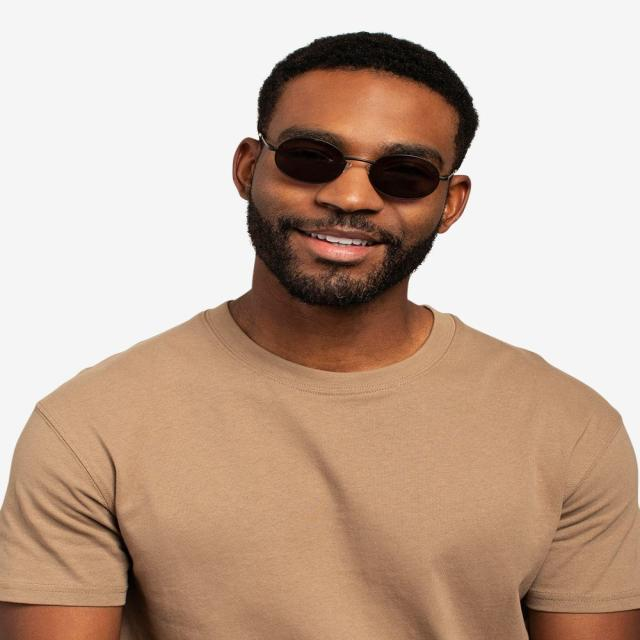2_gafas: (257, 131, 455, 201)
